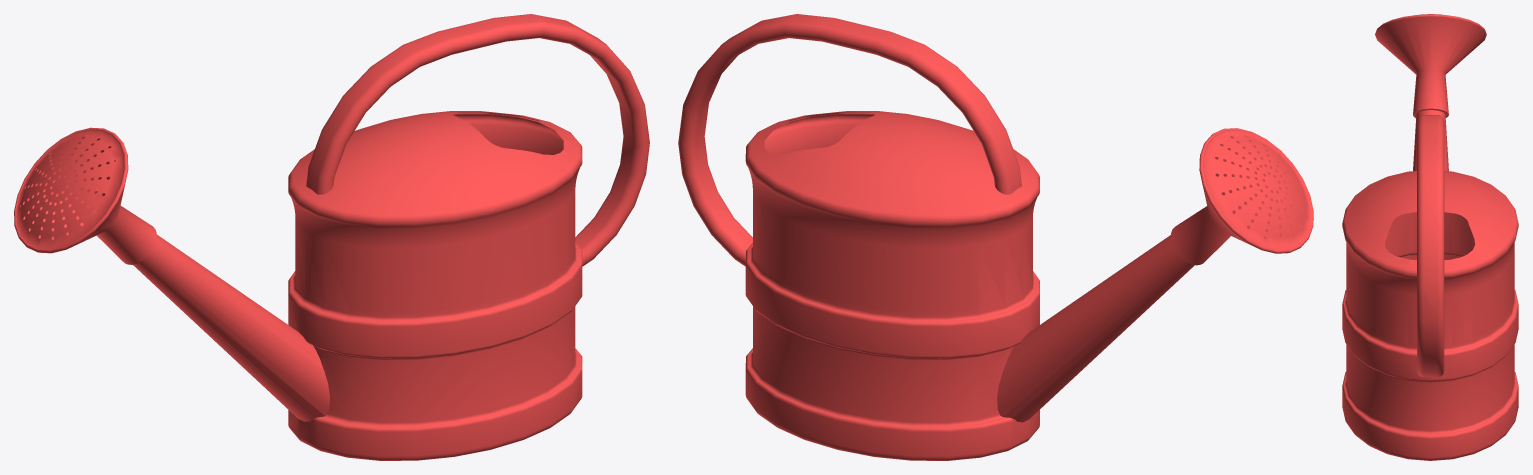
The model's file is waterCan_1.dae.
The picture shows the model from 3 angles, left to right: view 1: azimuth 30°, elevation 25°; view 2: azimuth 150°, elevation 25°; view 3: azimuth 270°, elevation 25°; orthographic projection. The views are drawn at different scales.
Visible parts, largest first — view 1: group_0 (×3); view 2: group_0 (×3); view 3: group_0 (×3).
Part boxes in pixels (<box>): group_0 (×3): <box>14,14,649,460</box>; group_0 (×3): <box>678,14,1313,460</box>; group_0 (×3): <box>1342,14,1518,460</box>.
Bounding box in the file's own units: 31.96 × 10.2 × 18.41.
